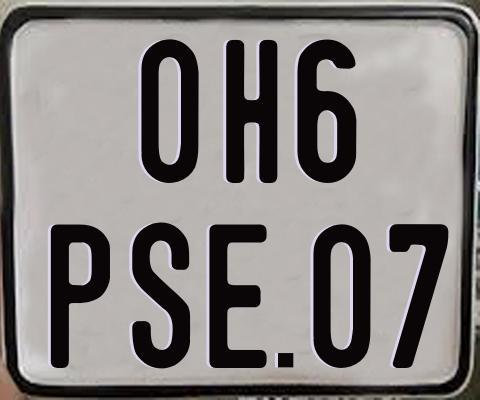0: (311, 222, 372, 370), (139, 37, 197, 186)
6: (295, 36, 355, 186)
7: (386, 222, 452, 370)
E: (206, 221, 269, 370)
H: (223, 39, 278, 184)
P: (51, 221, 114, 371)
S: (130, 222, 190, 375)
